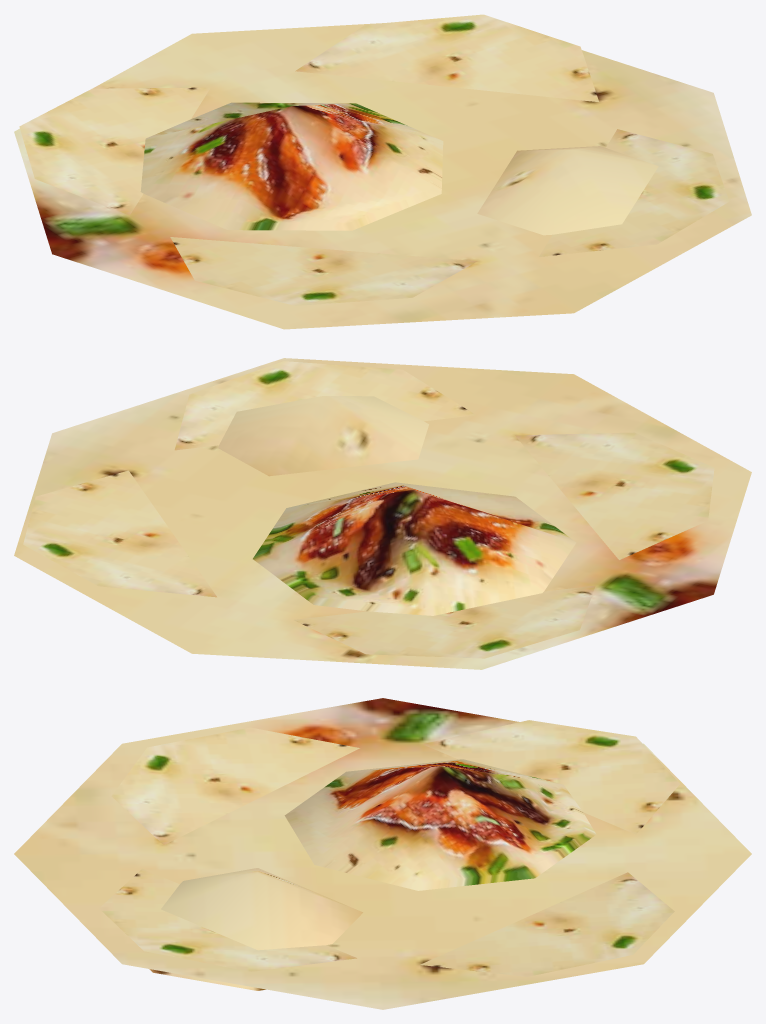
File: SM_FoodServignTableClump_Soup.fbx
The picture shows the model from 3 angles, top to bottom: view 1: azimuth 30°, elevation 25°; view 2: azimuth 150°, elevation 25°; view 3: azimuth 270°, elevation 25°; orthographic projection. The views are drawn at different scales.
Parts seen in each view (by area): view 1: FoodClump_Soup; view 2: FoodClump_Soup; view 3: FoodClump_Soup.
Part boxes in pixels (x1,y1,x2,y2): FoodClump_Soup: (14, 14, 751, 329); FoodClump_Soup: (14, 358, 751, 669); FoodClump_Soup: (14, 698, 751, 1009).
Bounding box in the file's own units: 39.02 × 39.02 × 4.34.
1 material, 1 textured.
